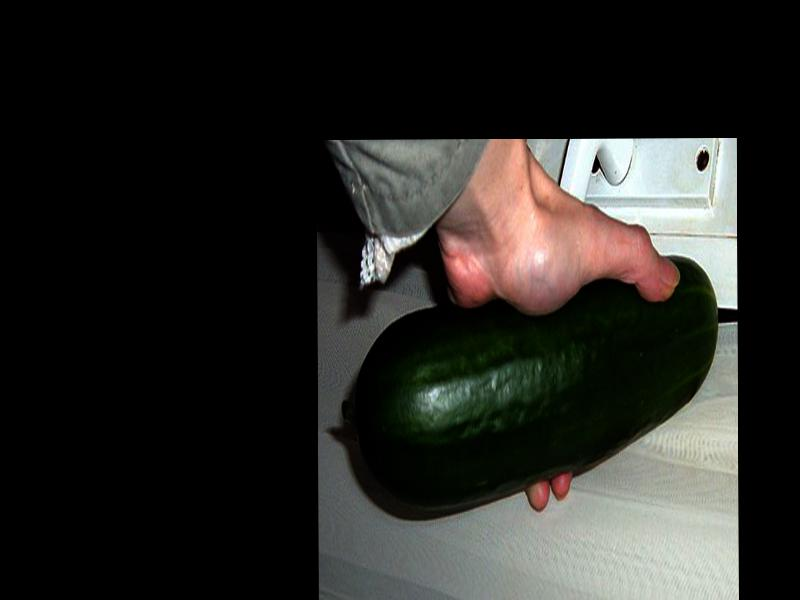Cucumber: (340, 257, 718, 519)
